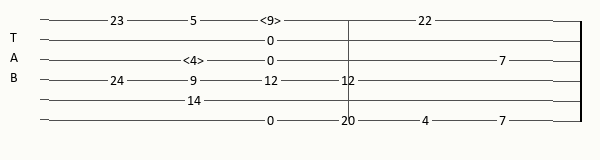0: (267, 114, 278, 127), (267, 54, 278, 67), (267, 34, 278, 47)
12: (264, 74, 282, 87), (341, 74, 359, 87)
14: (187, 94, 205, 107)
20: (341, 114, 359, 127)
22: (418, 14, 436, 27)
23: (110, 14, 128, 27)
24: (110, 74, 128, 87)
4: (422, 114, 433, 127)
5: (190, 14, 201, 27)
7: (499, 114, 510, 127), (499, 54, 510, 67)
9: (190, 74, 201, 87)
harmonic: (183, 54, 208, 67), (260, 14, 285, 27)
